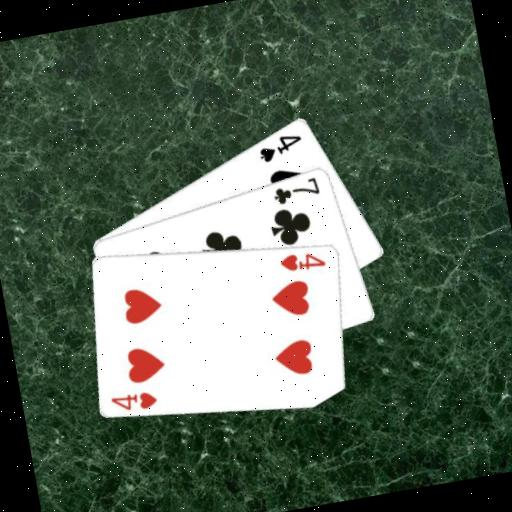4H: (107, 385, 160, 416), (276, 244, 328, 275)
4S: (254, 128, 307, 165)
7C: (268, 172, 322, 207)
